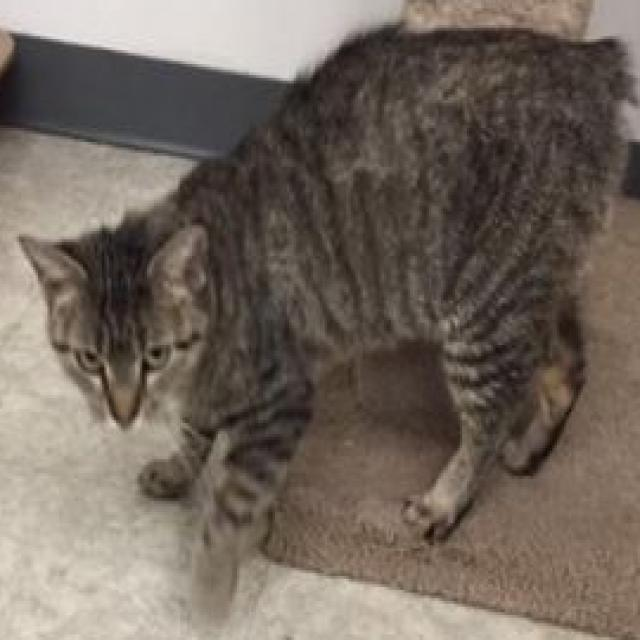American Bobtail: (12, 17, 640, 634)
